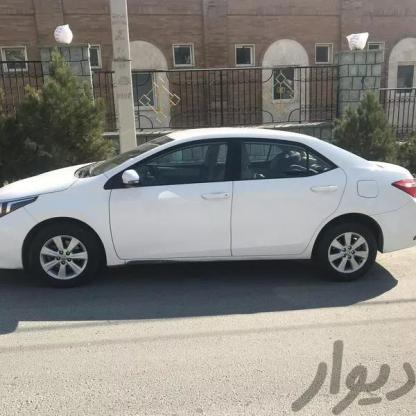Car: (0, 120, 416, 307)
